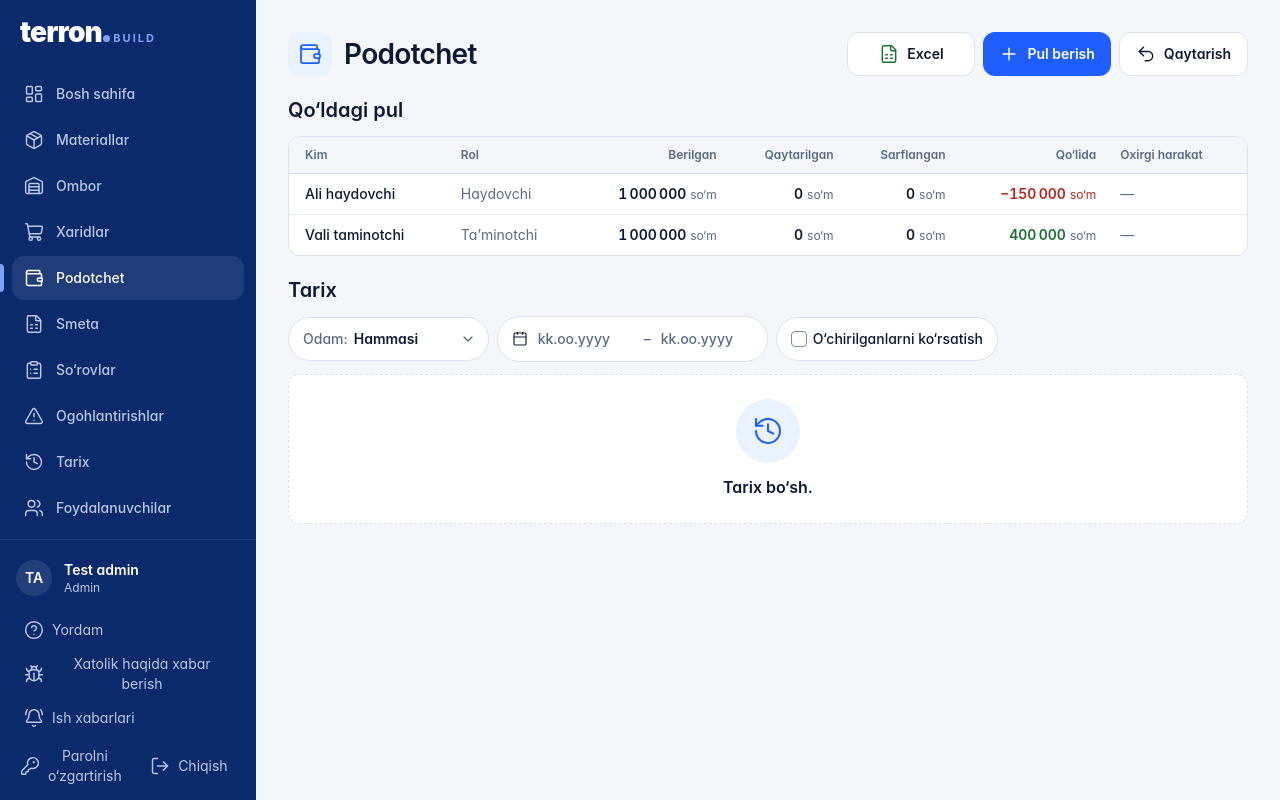
Test case: /cash › summa noto‘g‘ri — xato, chaqirilmaydi
What coordinates should you click on to do the following:
click the button "Pul berish"
I would click on:
 (1047, 54)
Its box is [984, 32, 1111, 76].
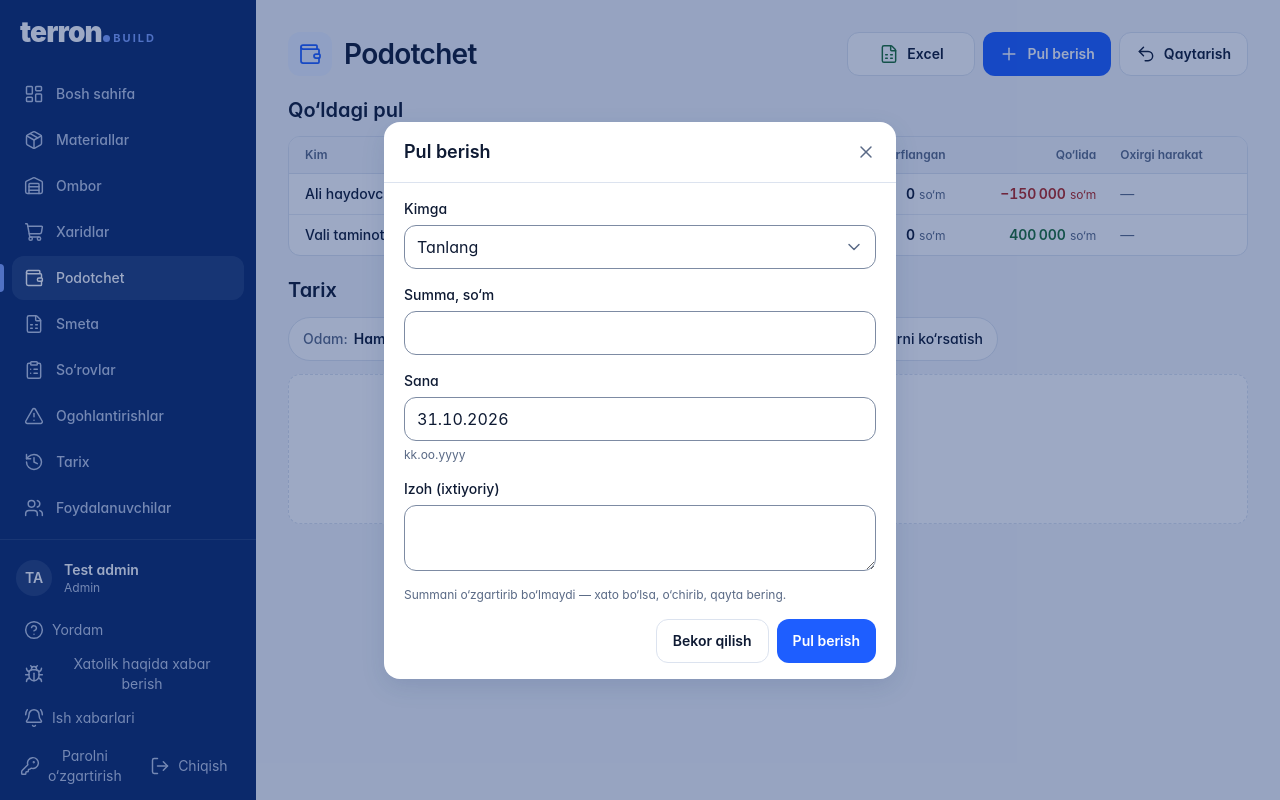
What coordinates should you click on to do the following:
click the button "Pul berish"
I would click on:
 (826, 640)
Its box is [777, 618, 876, 662].
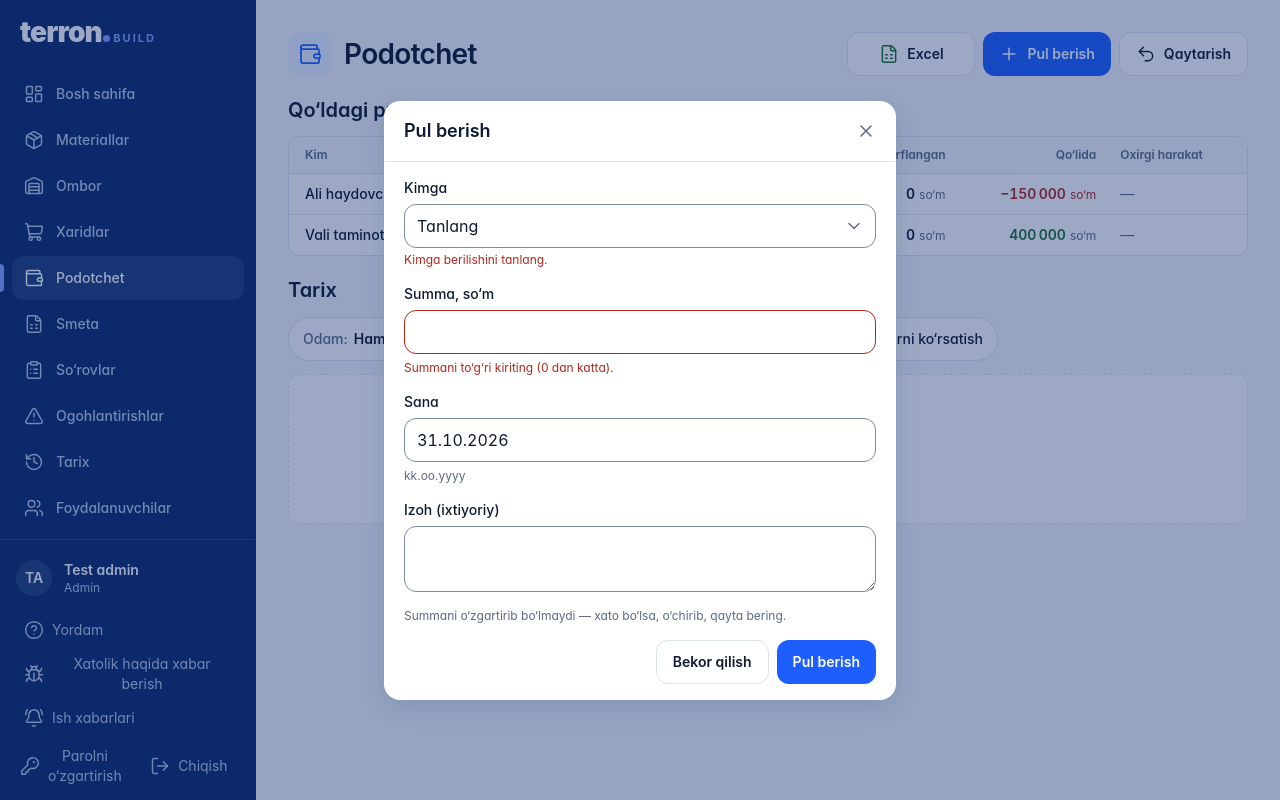
Expected: the text "Summani to‘g‘ri kiriting (0 dan katta)." is shown, [404, 360, 614, 374]
Expected: the text "Kimga berilishini tanlang." is shown, [404, 252, 548, 266]
